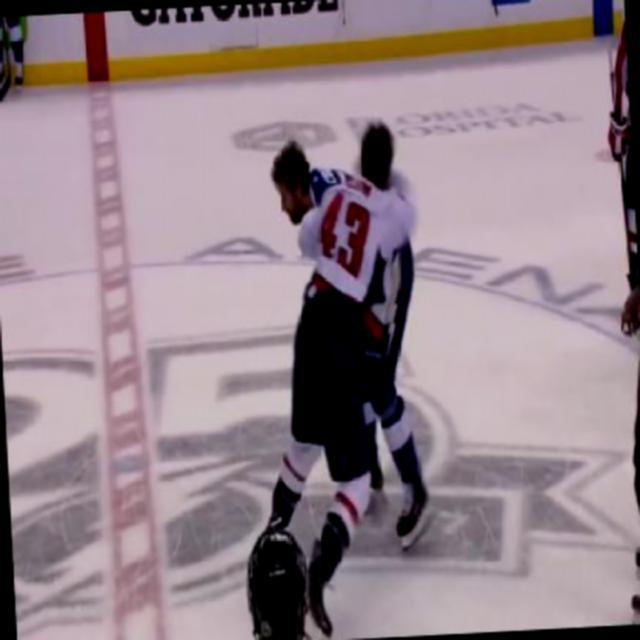fight: (266, 114, 436, 548)
